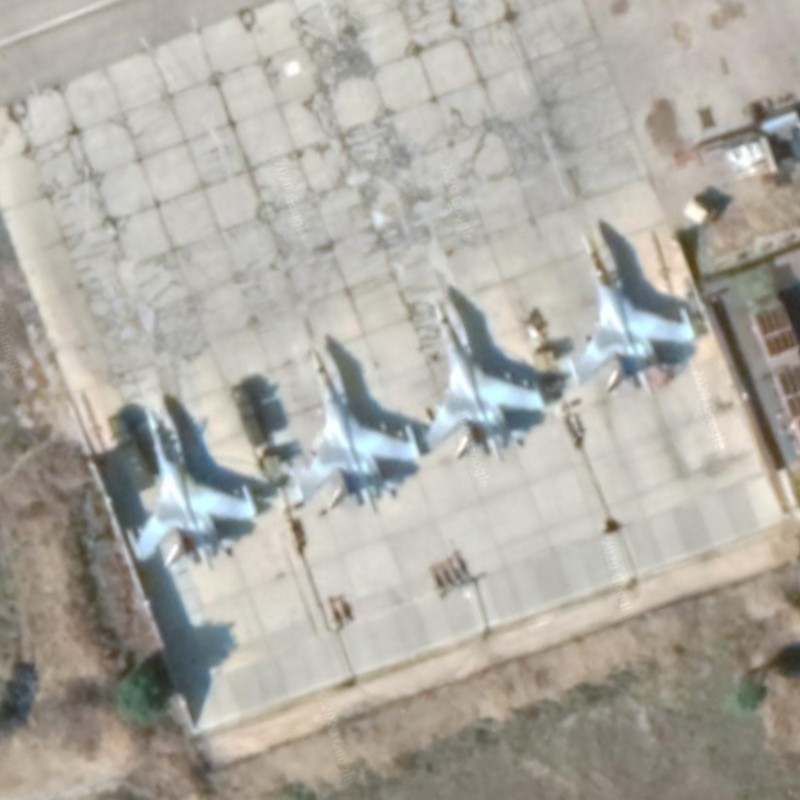A1: (566, 216, 709, 411), (116, 387, 259, 581), (283, 346, 426, 512), (420, 289, 554, 466)
